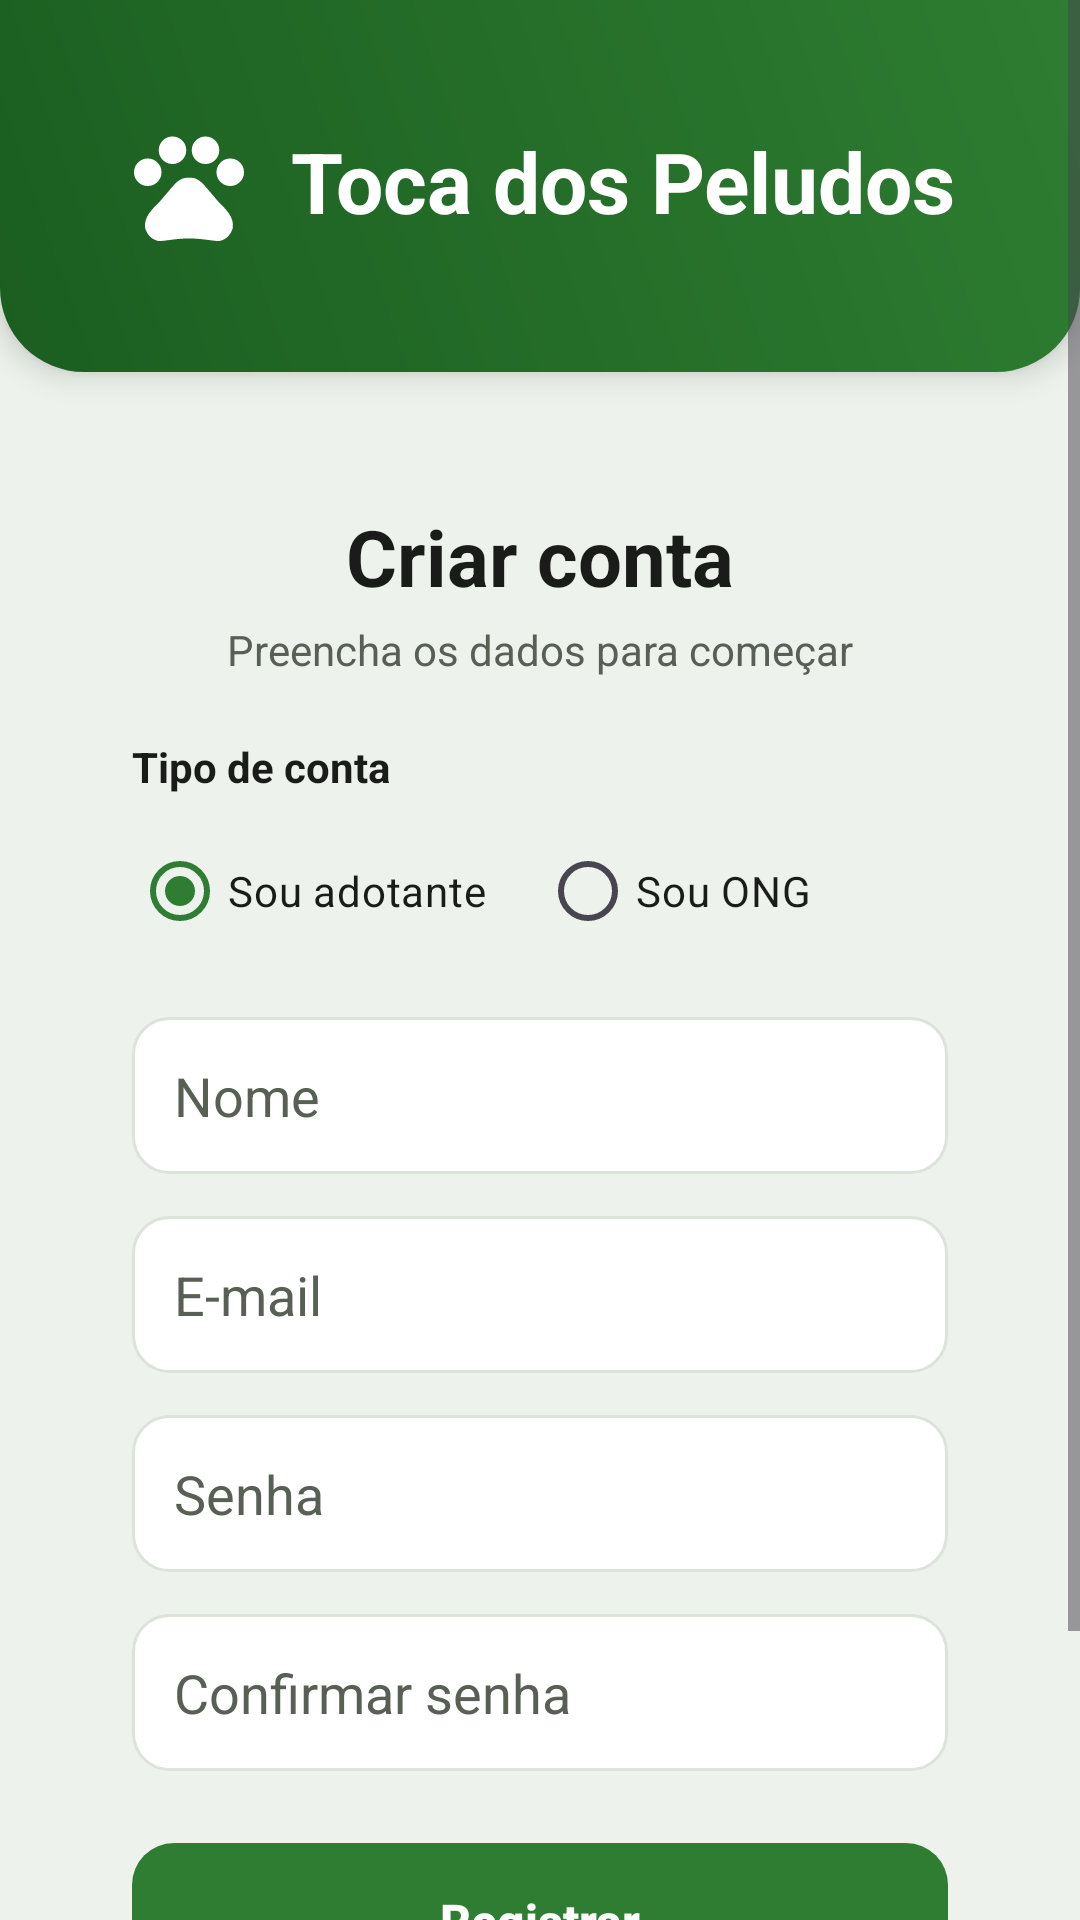

Icon click points for this 1080x1920 phone screenshot, format point (x, y):
pata: point (189, 188)
